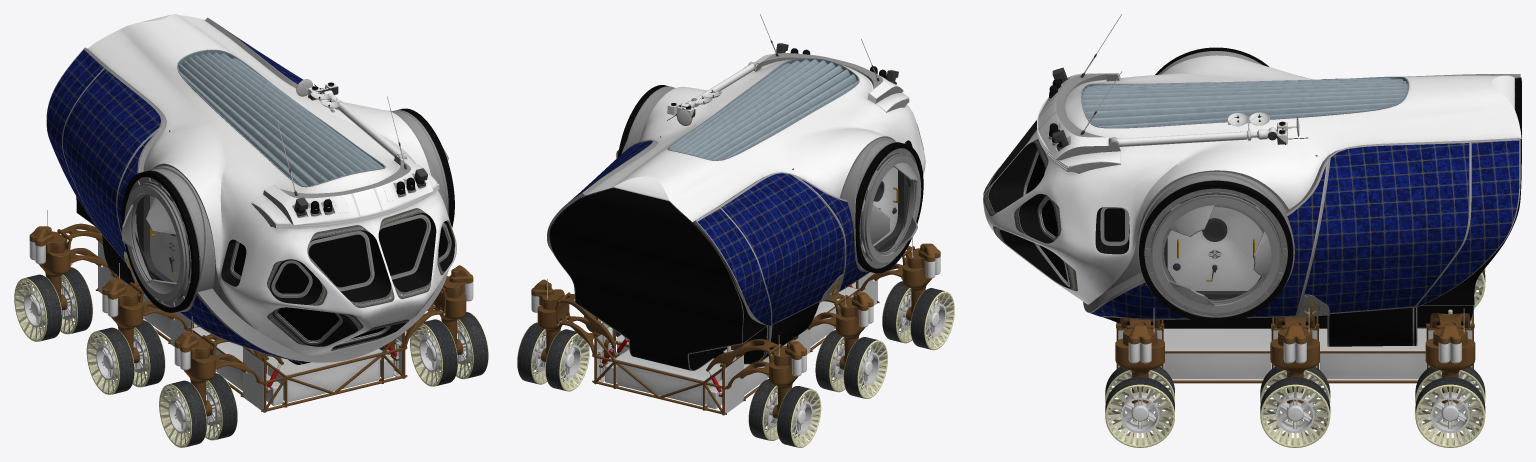
File: sev.glb
The picture shows the model from 3 angles, left to right: view 1: azimuth 30°, elevation 25°; view 2: azimuth 150°, elevation 25°; view 3: azimuth 270°, elevation 25°; orthographic projection. The views are drawn at different scales.
Parts seen in each view (by area): view 1: MMSEV; view 2: MMSEV; view 3: MMSEV.
Boxes of the visible parts, x1,y1,x2,y2 form: MMSEV: (14,14,488,447); MMSEV: (517,14,954,447); MMSEV: (983,14,1521,447).
Bounding box in the file's own units: 4.04 × 3.97 × 5.91.
1 material, 1 textured.
